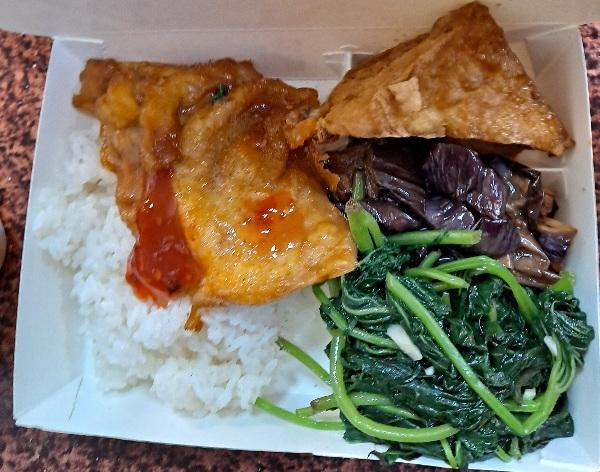big grilled chicken leg: (17, 17, 598, 472)
big herbal chicken leg: (58, 100, 313, 408)
braised fish fillet: (338, 260, 578, 459), (325, 6, 574, 172), (342, 145, 569, 279)
braised pork: (75, 43, 347, 310)
